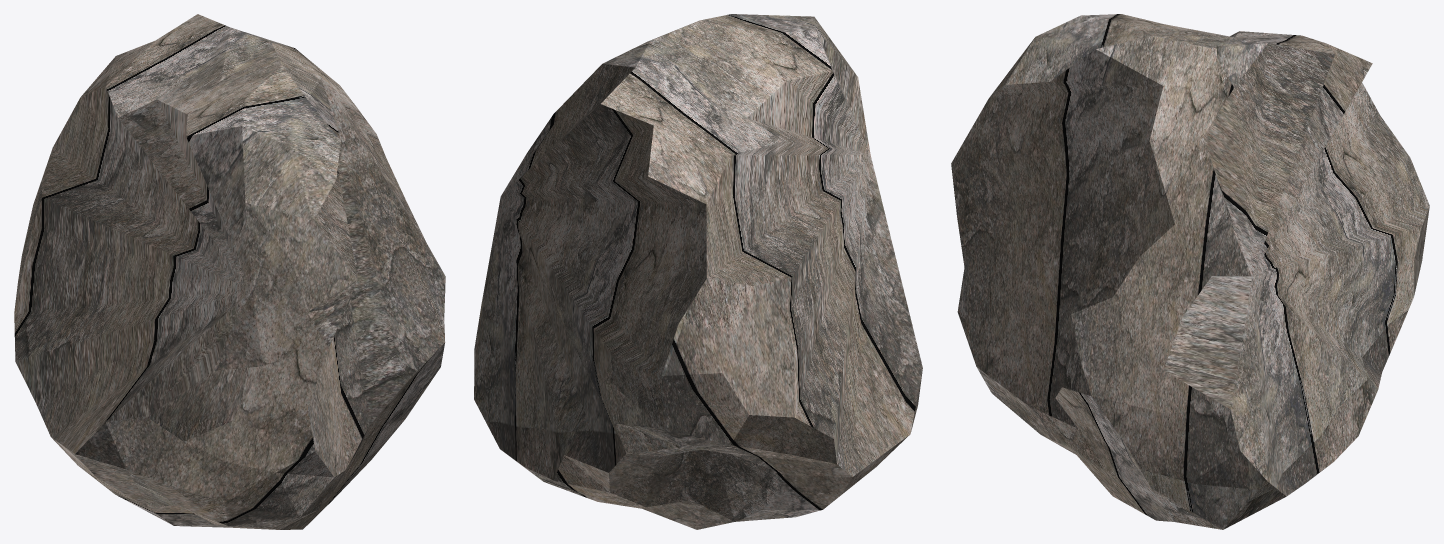
The model's file is Stone.fbx.
The picture shows the model from 3 angles, left to right: view 1: azimuth 30°, elevation 25°; view 2: azimuth 150°, elevation 25°; view 3: azimuth 270°, elevation 25°; orthographic projection. The views are drawn at different scales.
Parts seen in each view (by area): view 1: Cube.024; view 2: Cube.024; view 3: Cube.024.
Part boxes in pixels (left/top/right/bottom): Cube.024: left=14, top=14, right=445, bottom=529; Cube.024: left=474, top=14, right=922, bottom=529; Cube.024: left=951, top=14, right=1429, bottom=529.
Bounding box in the file's own units: 2329 × 2752 × 2519.
